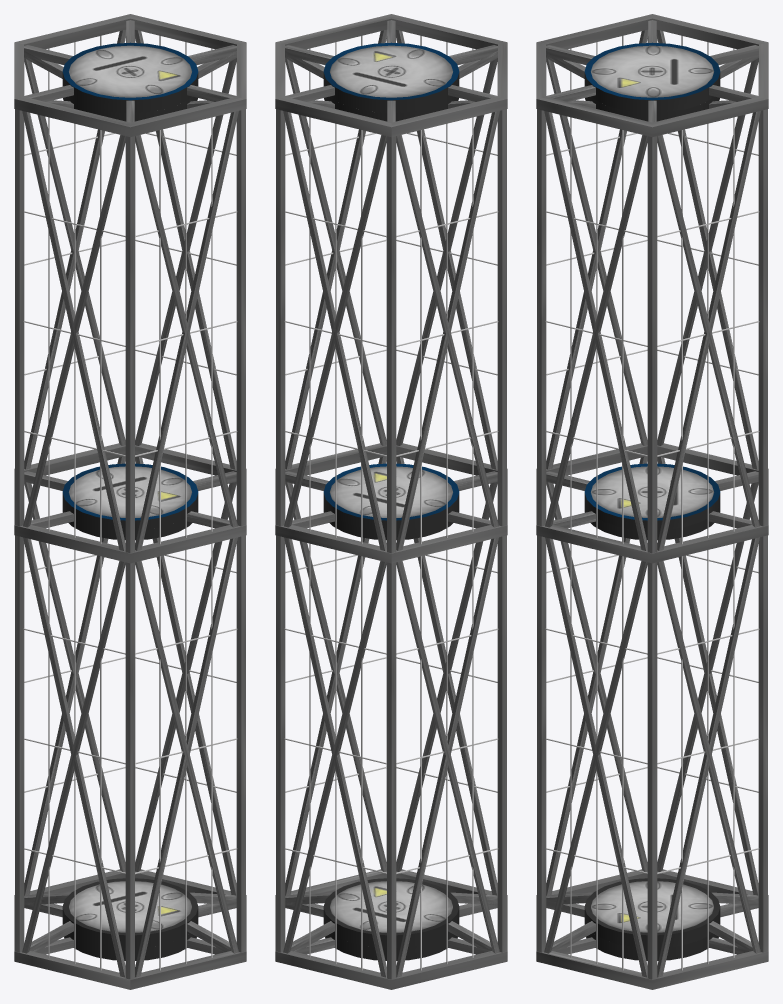
The model's file is DoubleHexTruss.FBX.
The picture shows the model from 3 angles, left to right: view 1: azimuth 30°, elevation 25°; view 2: azimuth 150°, elevation 25°; view 3: azimuth 270°, elevation 25°; orthographic projection.
Visible parts, largest first — view 1: Pole003, EndCap007, EndBeam005, EndCap012, EndCap022, EndBeam009, Pole016, Pole012, Pole015, Pole011, CrossBeam020, CrossBeam019 (+41 smaller); view 2: Pole003, EndCap007, EndCap012, EndCap022, EndBeam009, EndBeam005, EndBeam002, Pole013, Pole004, Pole014, Pole005, CrossBeam013 (+40 smaller); view 3: Pole006, EndCap007, EndCap012, EndCap022, EndBeam009, EndBeam005, EndBeam002, Pole015, Pole011, Pole014, Pole005, CrossBeam028 (+41 smaller).
Part boxes in pixels (x1,y1,x2,y2): Pole003: [15, 109, 24, 952]; EndCap007: [62, 42, 198, 112]; EndBeam005: [14, 14, 246, 136]; EndCap012: [62, 878, 198, 947]; EndCap022: [62, 463, 198, 530]; EndBeam009: [14, 443, 246, 563]; Pole016: [125, 562, 134, 979]; Pole012: [125, 136, 134, 553]; Pole015: [236, 535, 245, 952]; Pole011: [236, 109, 245, 526]; CrossBeam020: [22, 111, 125, 550]; CrossBeam019: [135, 111, 238, 550]; Pole003: [497, 109, 506, 952]; EndCap007: [323, 42, 459, 112]; EndCap012: [323, 878, 459, 947]; EndCap022: [323, 463, 459, 530]; EndBeam009: [275, 443, 507, 563]; EndBeam005: [275, 14, 507, 134]; EndBeam002: [275, 18, 507, 137]; Pole013: [387, 562, 396, 979]; Pole004: [387, 136, 396, 553]; Pole014: [276, 535, 285, 952]; Pole005: [276, 109, 285, 526]; CrossBeam013: [283, 111, 386, 550]; Pole006: [647, 136, 657, 979]; EndCap007: [584, 42, 720, 112]; EndCap012: [584, 878, 720, 947]; EndCap022: [584, 463, 720, 530]; EndBeam009: [536, 443, 768, 563]; EndBeam005: [536, 14, 768, 136]; EndBeam002: [536, 19, 768, 137]; Pole015: [537, 535, 546, 952]; Pole011: [537, 109, 546, 526]; Pole014: [758, 535, 767, 952]; Pole005: [758, 109, 767, 526]; CrossBeam028: [545, 537, 647, 977].
Size of what is drawn, in the model's own units: 2.46 by 8.75 by 2.13.
1 material, 1 textured.
